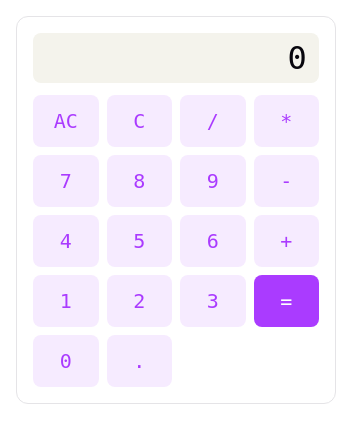
Test: Calculator › shows digits as they are pressed
Click the button "1".
click(66, 301)  # box x1=33 y1=275 x2=98 y2=327
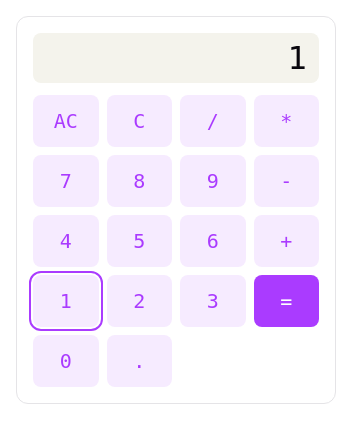
Click the button "2".
click(139, 301)  # box x1=106 y1=275 x2=172 y2=327
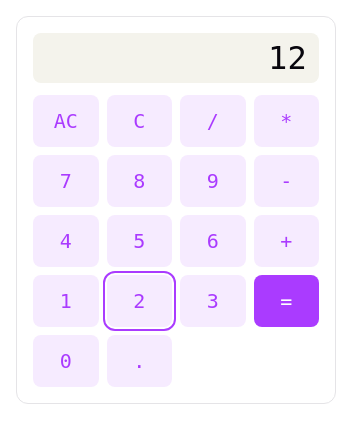
Click the button "3".
click(213, 301)  # box x1=180 y1=275 x2=246 y2=327
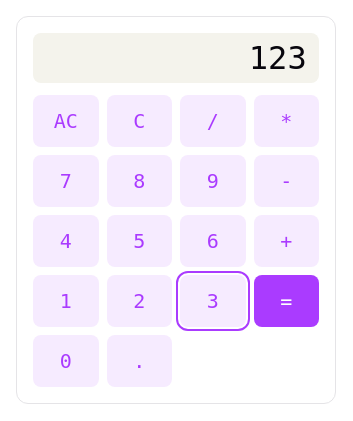
Expected: the text with test id "calculator-display" reads "123", x1=249 y1=39 x2=307 y2=77
